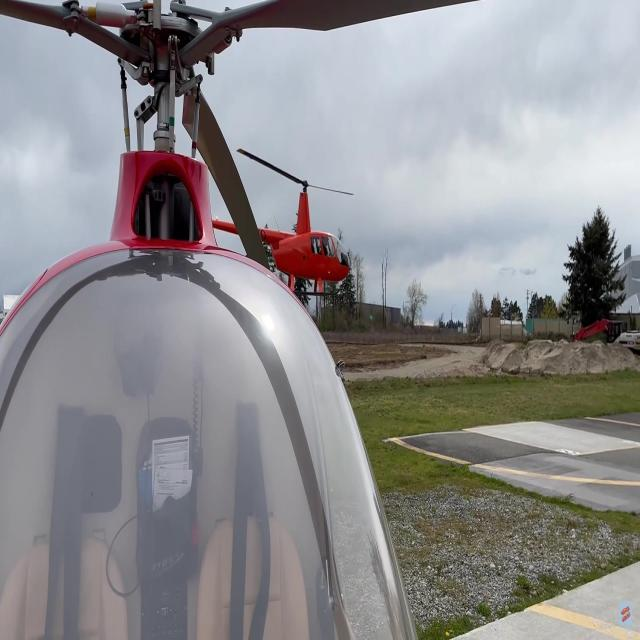CIV_HELO: (183, 174, 356, 302)
